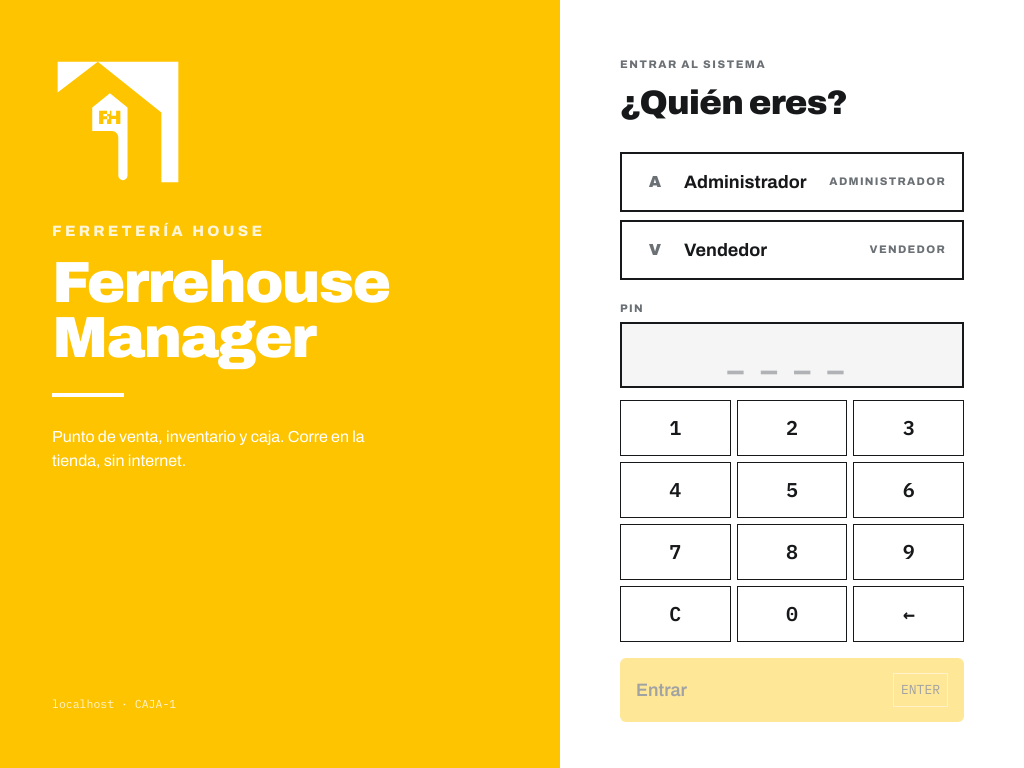
entrar › si el servidor no está, lo dice en vez de quedarse pensando
Click the button "A Administrador administrador": (792, 182) [620,152,964,212]
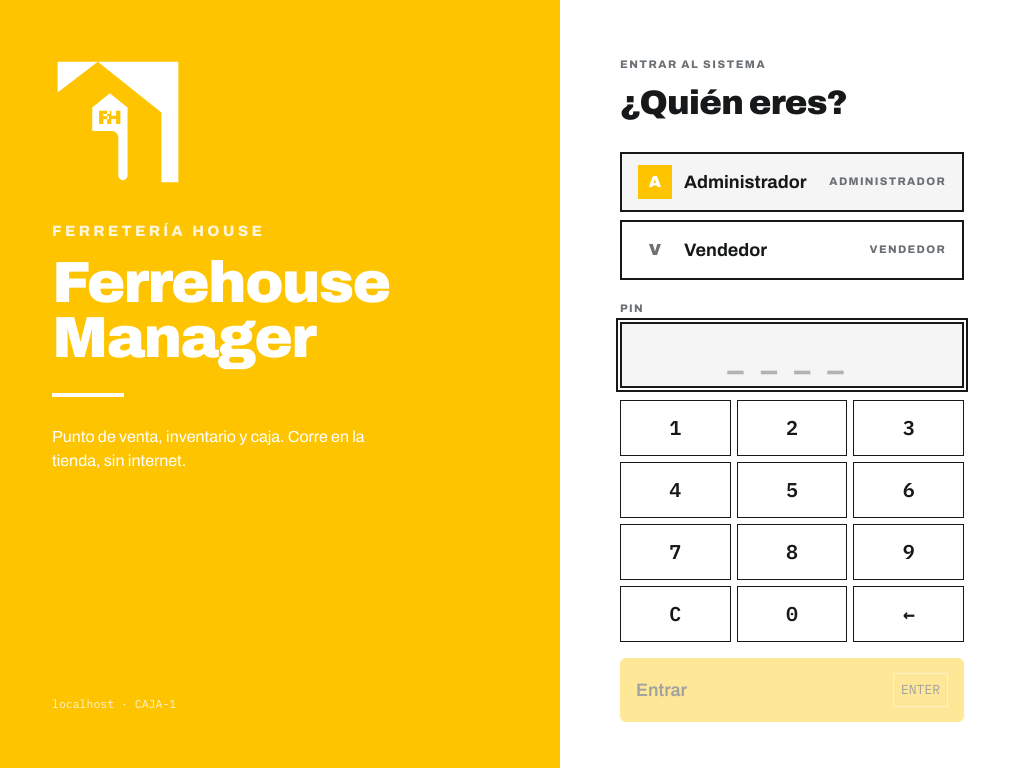
Type keys "111111"
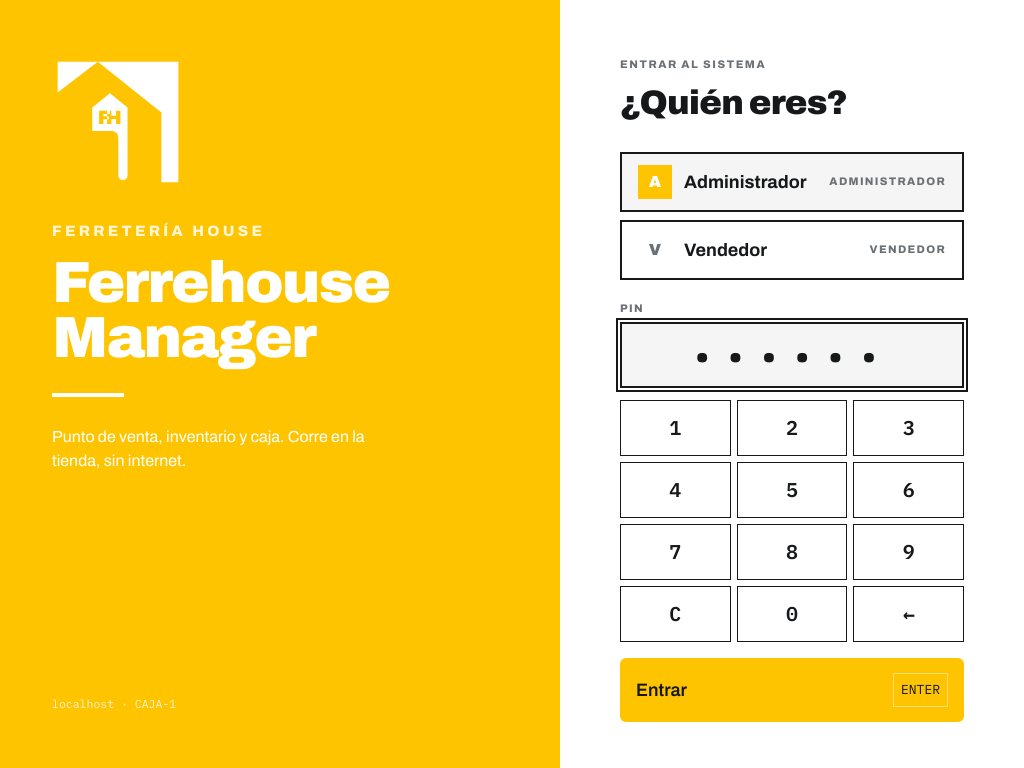
Click the button "Entrar ENTER": (662, 690) [620,658,964,722]
(page scrolled)
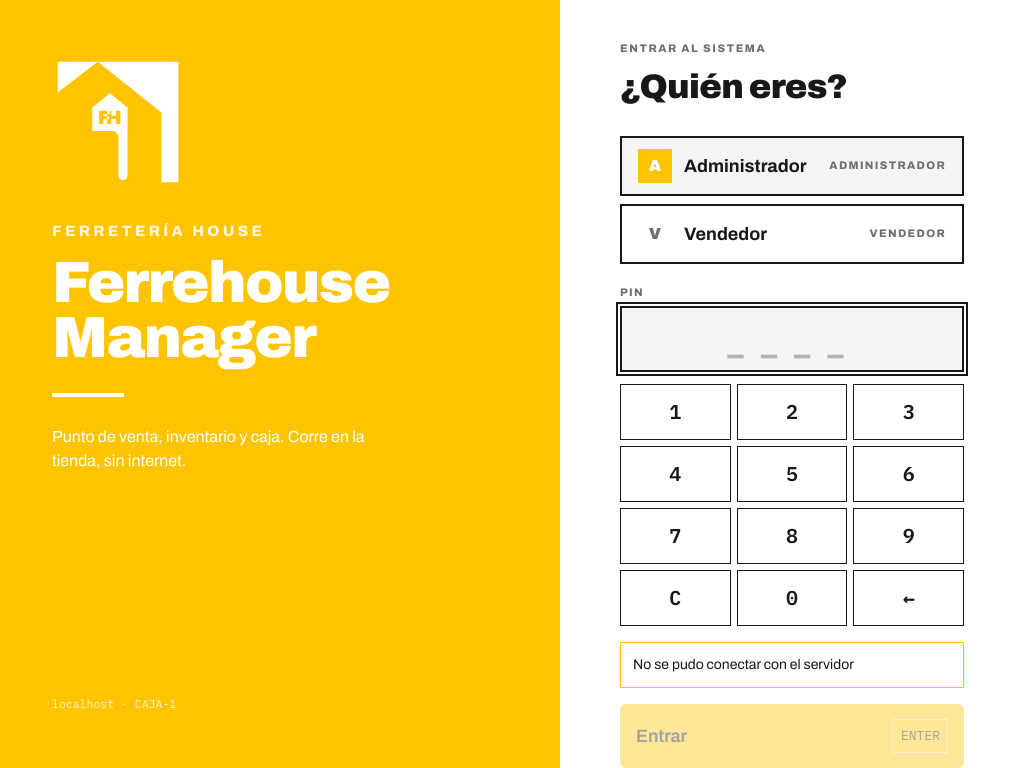
Now the message reads "No se pudo conectar con el servidor", box [633,657,854,672]
Now the button "Entrar ENTER" is disabled, box [620,704,964,767]
